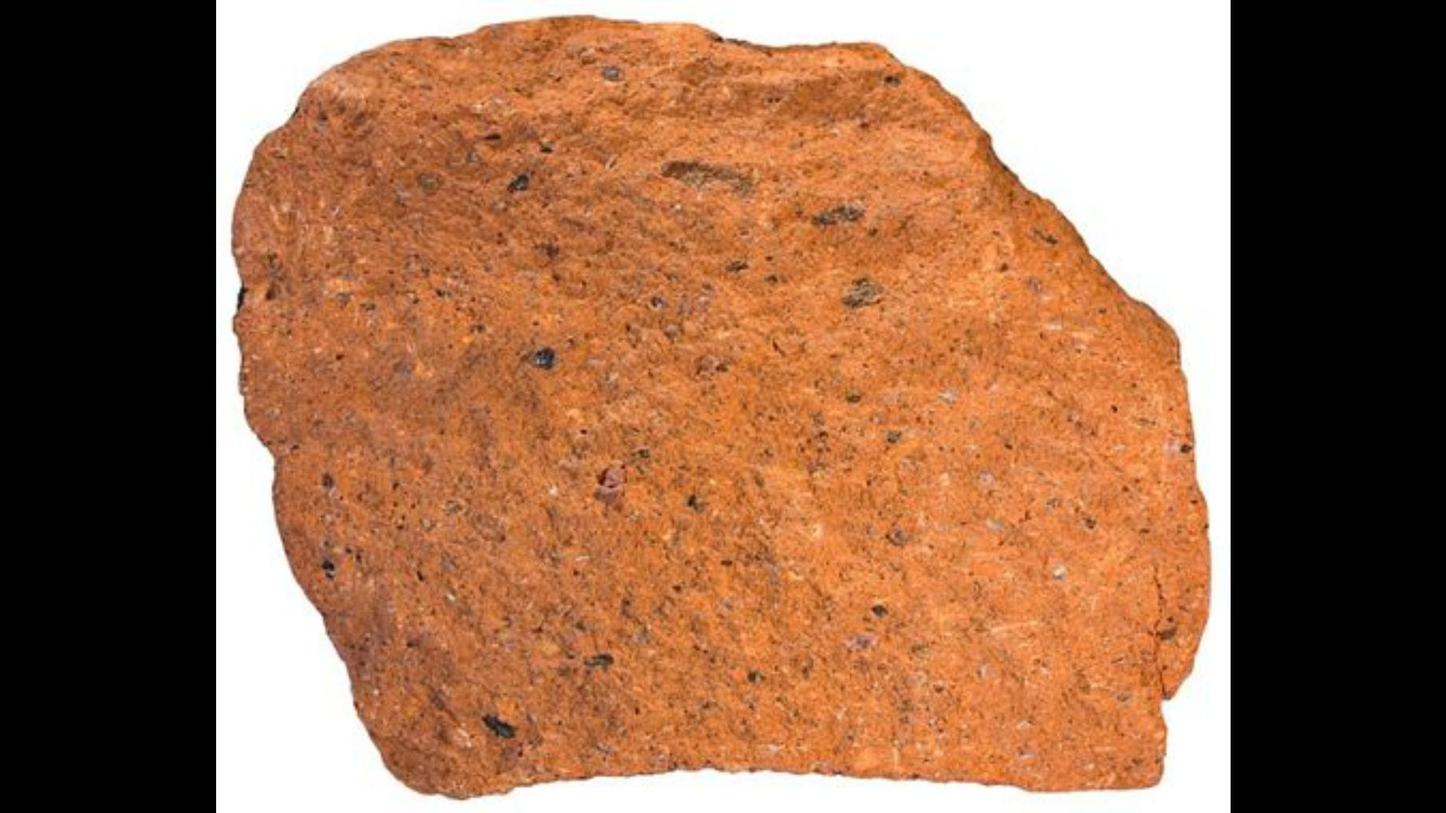rock: (233, 19, 1204, 796)
